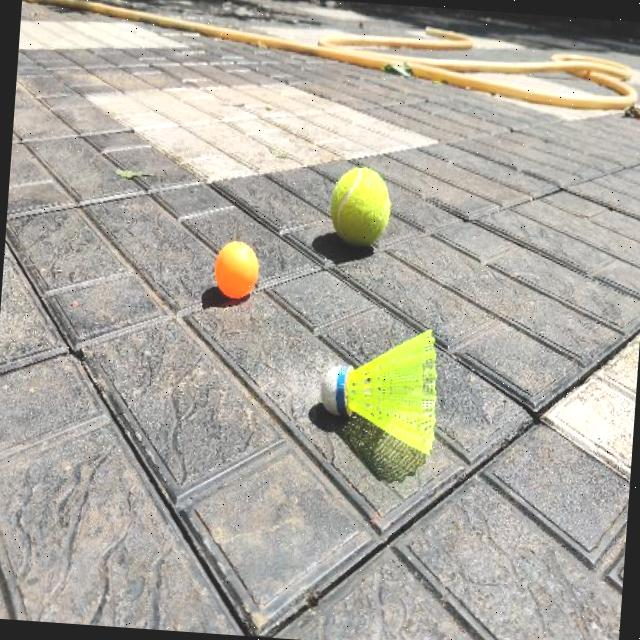ping-pong-ball: (214, 240, 260, 297)
